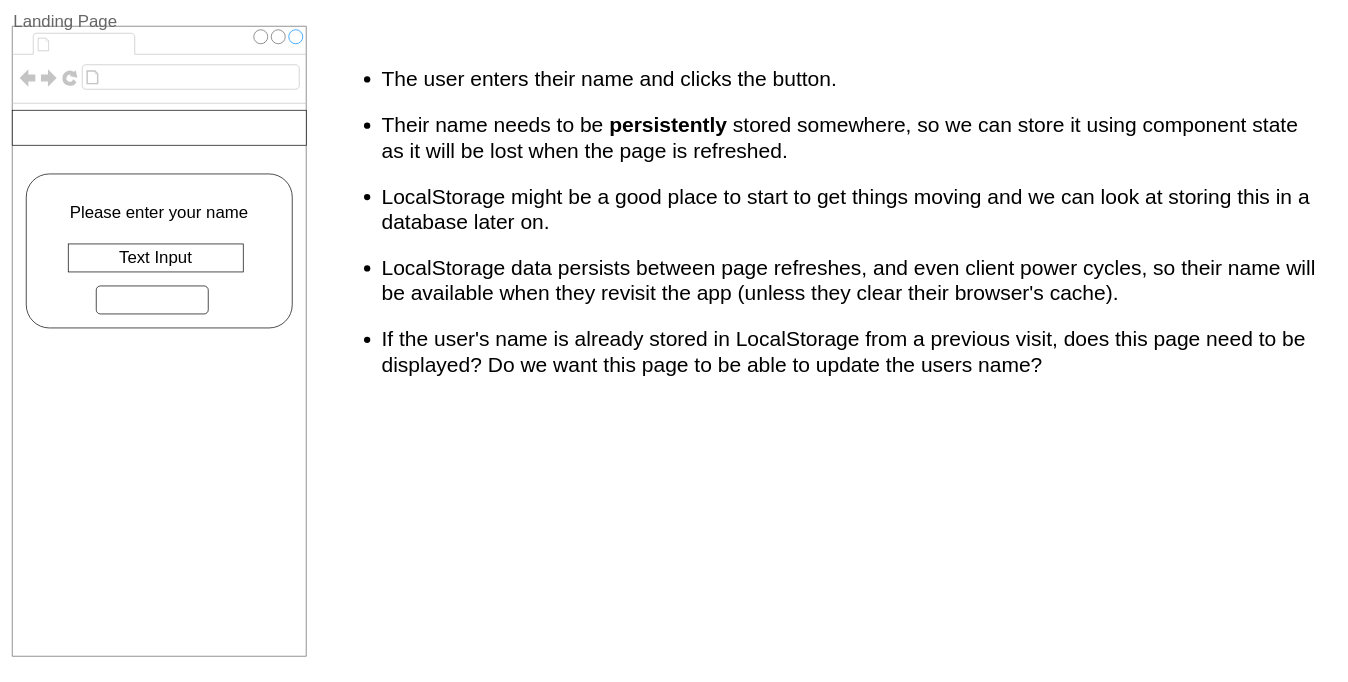
Image size: 1348x682. Some labels were removed from this diagram. The centre of each missing label's shape, as x and y in pixels:
"App Name" goes at pixel 159 127.
"Go!" goes at pixel 152 299.
